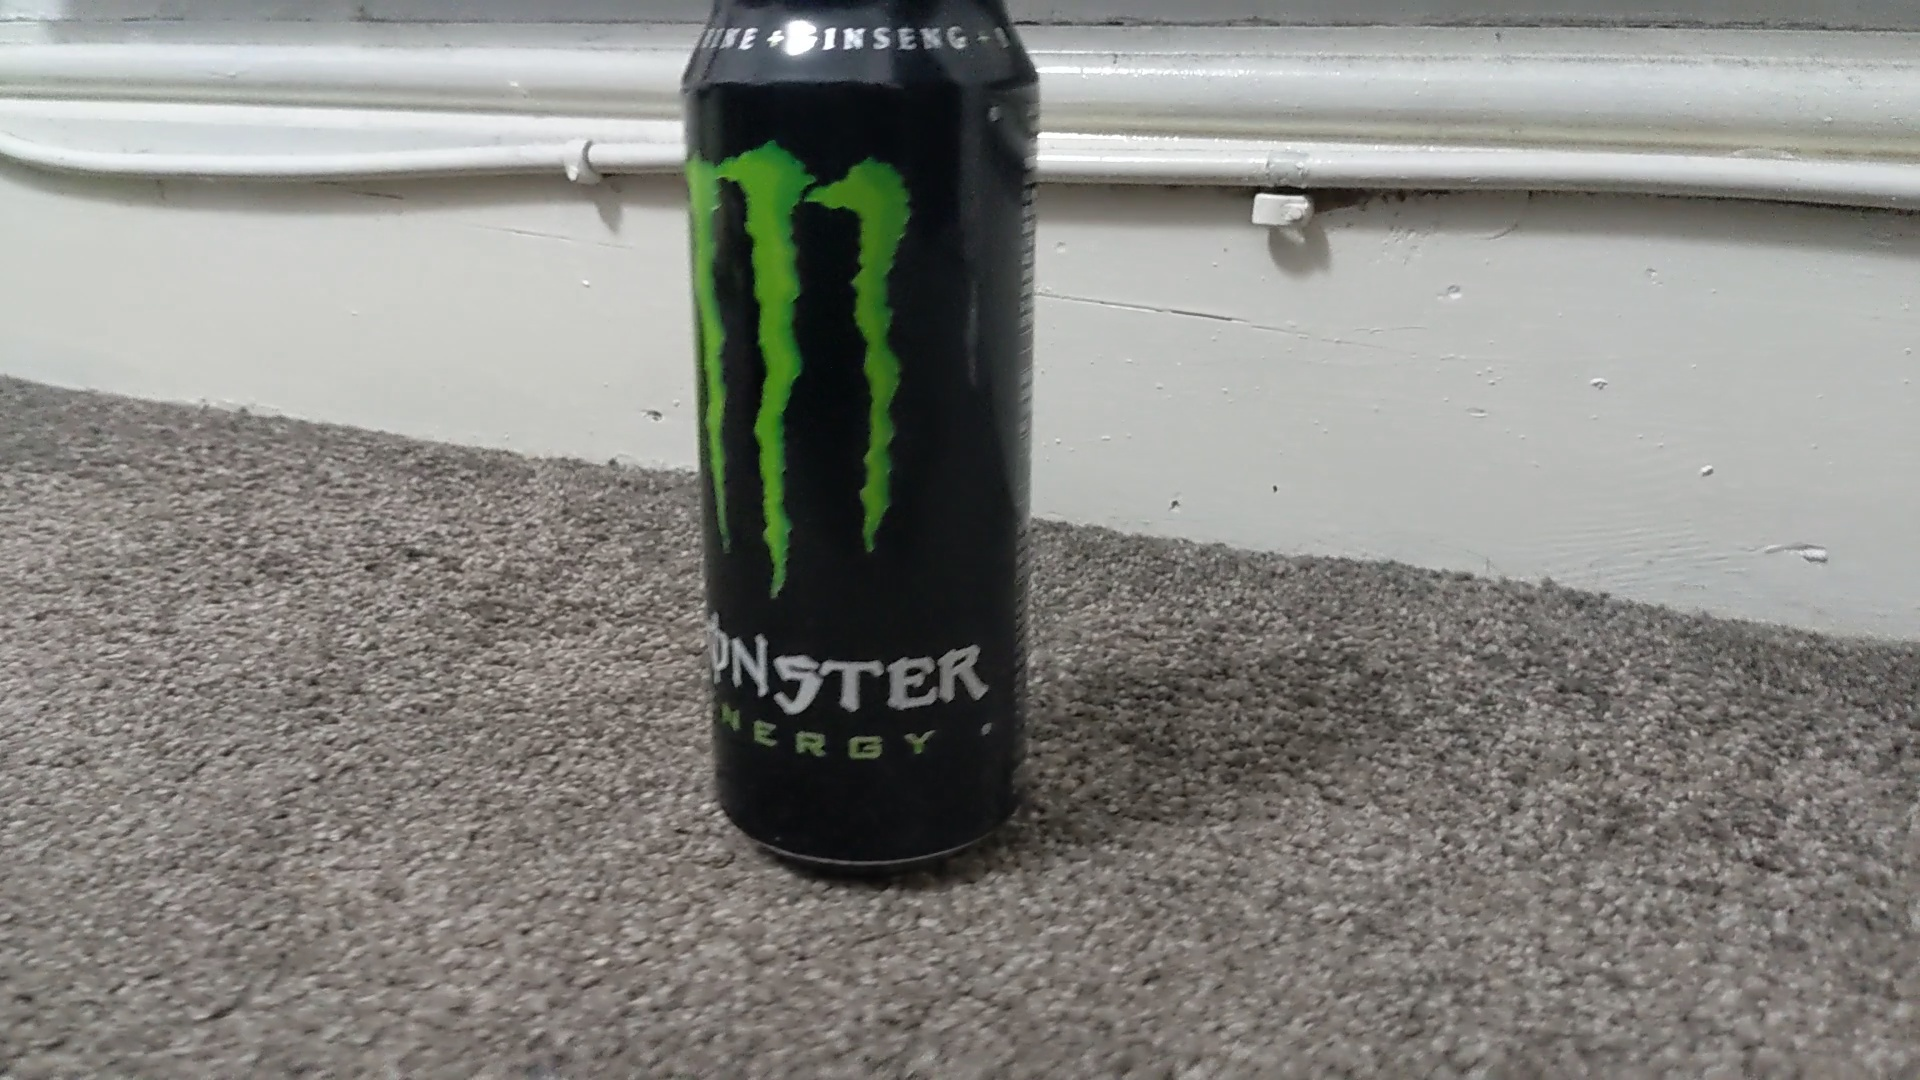monster-original: (679, 1, 1042, 872)
